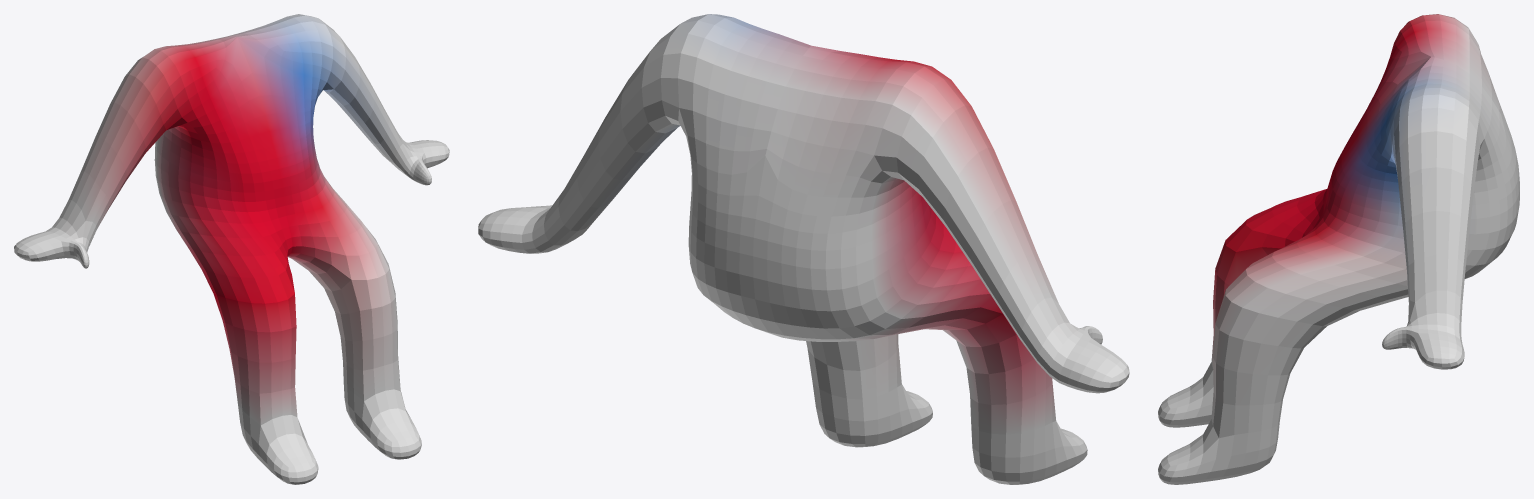
File: baby_body_final.fbx
The picture shows the model from 3 angles, left to right: view 1: azimuth 30°, elevation 25°; view 2: azimuth 150°, elevation 25°; view 3: azimuth 270°, elevation 25°; orthographic projection. The views are drawn at different scales.
Visible parts, largest first — view 1: baby 2 .005; view 2: baby 2 .005; view 3: baby 2 .005.
Boxes of the visible parts, left/top/right/bottom form: baby 2 .005: left=14, top=14, right=449, bottom=484; baby 2 .005: left=478, top=14, right=1129, bottom=484; baby 2 .005: left=1158, top=14, right=1519, bottom=484.
Size of the model in its own units: 488 by 380 by 313.
